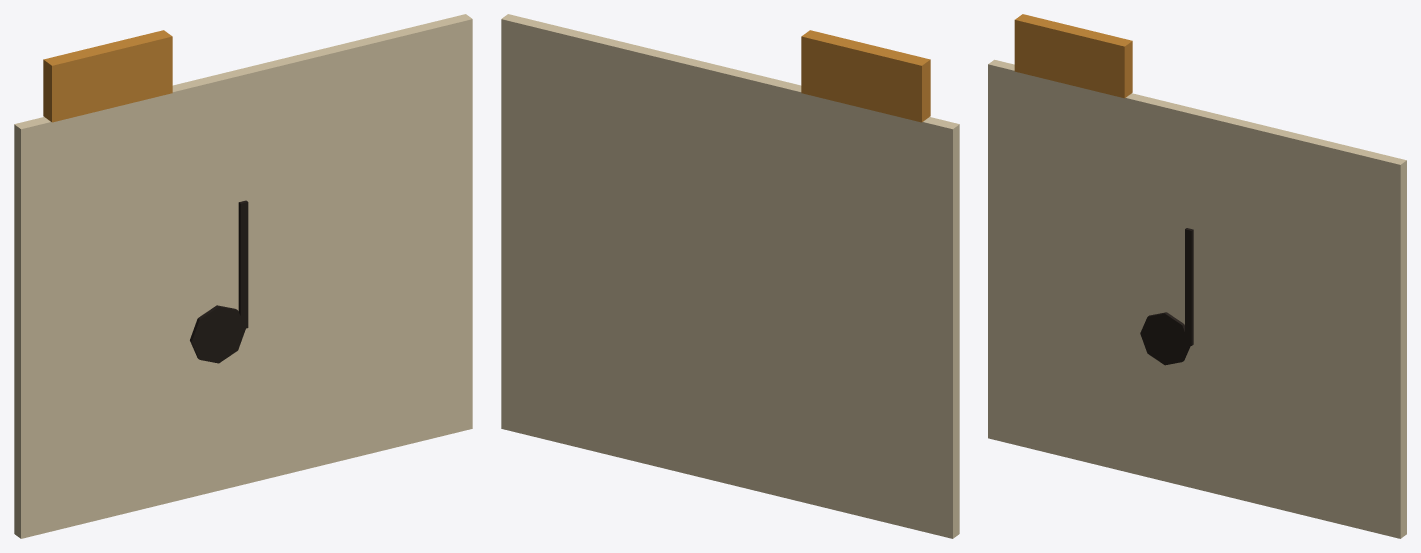
The model's file is Prop_YTM_SongCard.glb.
3 renders of one model, left to right at view 1: azimuth 30°, elevation 25°; view 2: azimuth 150°, elevation 25°; view 3: azimuth 330°, elevation 25°, orthographic. The views are drawn at different scales.
Parts seen in each view (by area): view 1: Prop_YTM_SongCard; view 2: Prop_YTM_SongCard; view 3: Prop_YTM_SongCard.
Boxes of the visible parts, x1,y1,x2,y2 form: Prop_YTM_SongCard: [14, 14, 472, 538]; Prop_YTM_SongCard: [501, 14, 959, 538]; Prop_YTM_SongCard: [988, 14, 1406, 538].
Size of what is drawn, in the model's own units: 0.15 by 0.148 by 0.0057.
